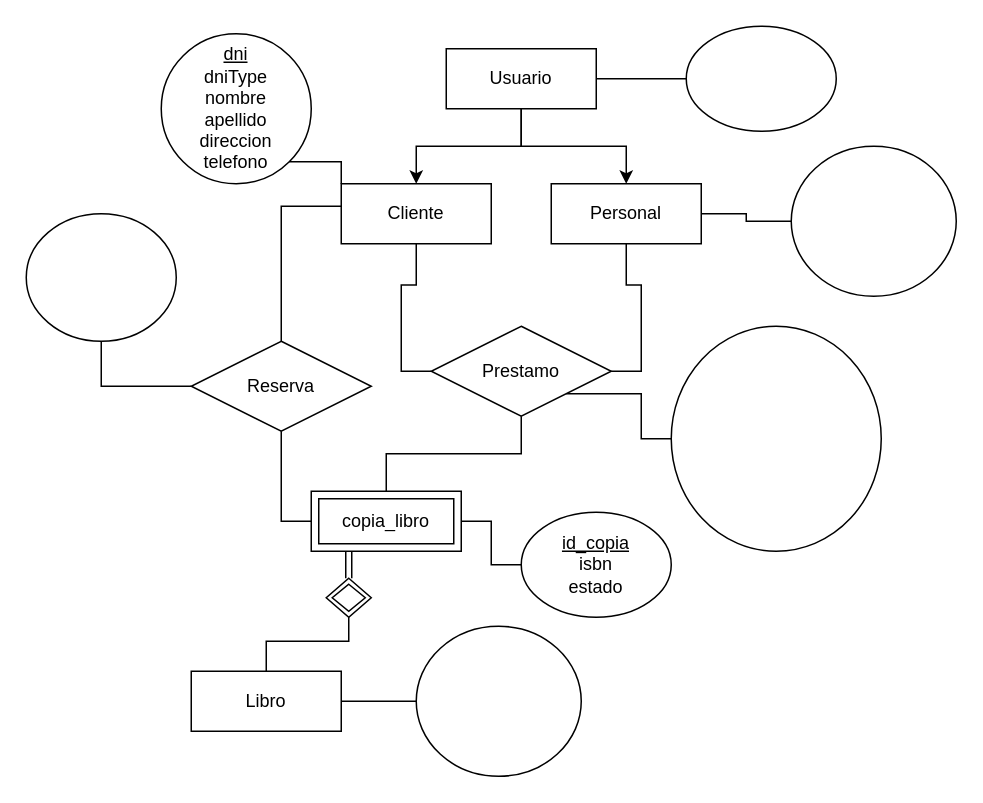
Some shapes in this 983 by 803 pixel diagram are drawn without their labels. The shapes that lost their labels are listed below. From the top down, each one's centre as x and y in pixels, then its label:
At point 760,78: "id correo contraseña rol".
At point 873,220: "nombre apellido telefono email_personal id_empleado".
At point 100,276: "dni id_copia fecha_res fin_res estado".
At point 775,438: "dni id_empleado id_copia fecha_ini fecha_fin dias_atraso estado precioxDiaAtraso".
At point 498,700: "isbn titulo autor genero descripcion calificacion".
